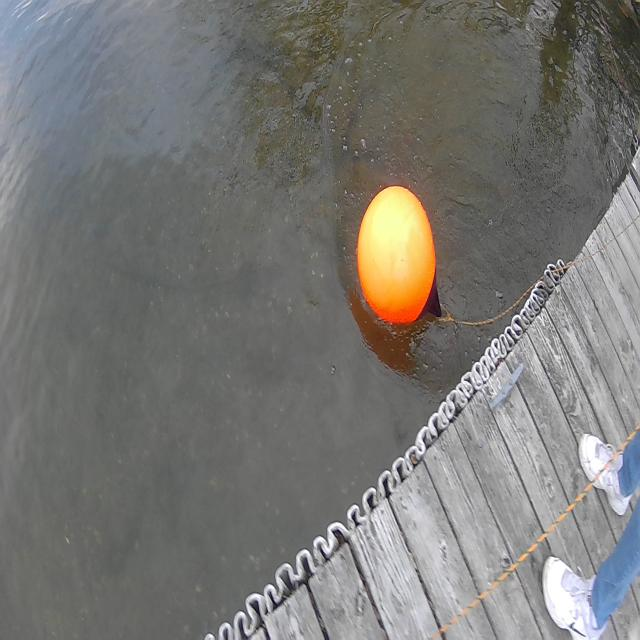Buoy: (354, 178, 449, 335)
